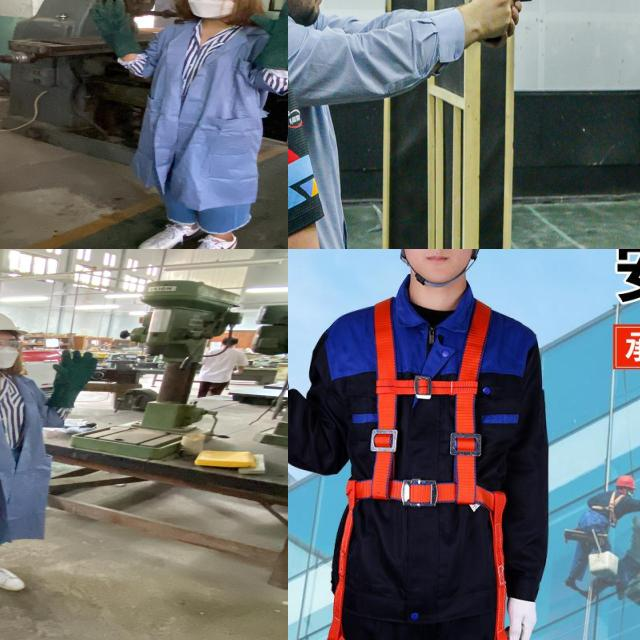Harness: (336, 295, 514, 640)
face_mask: (179, 0, 240, 19), (0, 333, 23, 372)
glasses: (0, 335, 24, 351)
hand_glove: (87, 0, 141, 39), (48, 348, 104, 383), (244, 0, 288, 44)
head_helmet: (0, 305, 23, 341)
person: (79, 0, 288, 249), (0, 305, 109, 613)
shoes: (137, 219, 203, 249), (174, 229, 244, 249), (0, 552, 32, 593)
